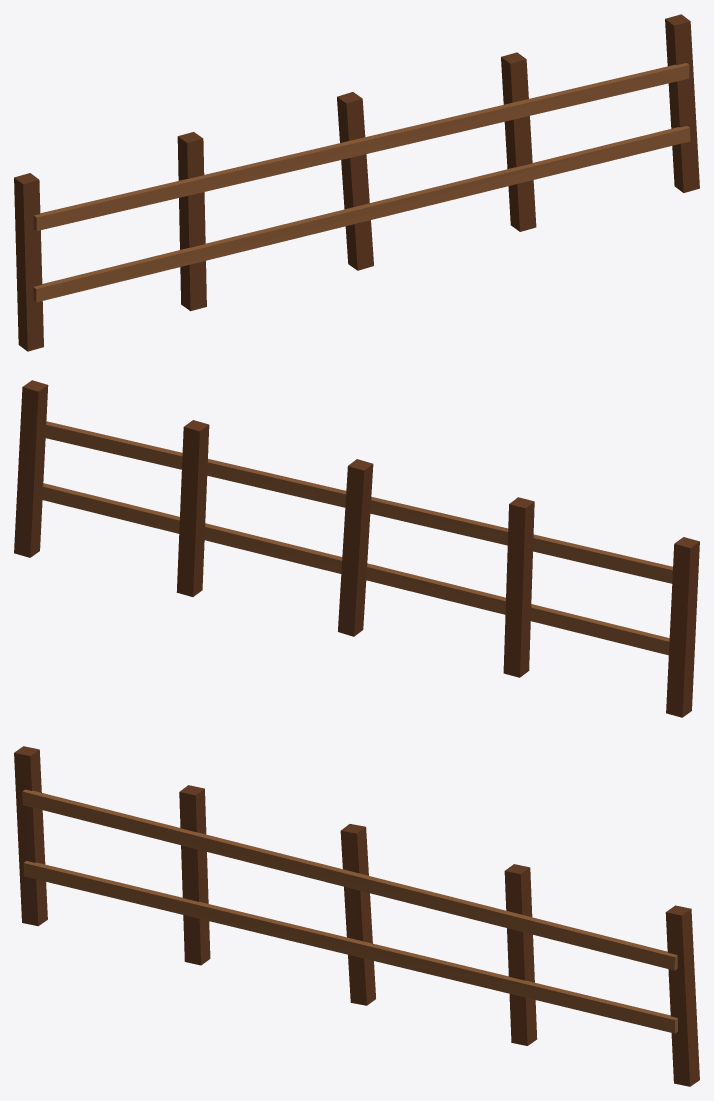
Rendered from fence.glb.
The picture shows the model from 3 angles, top to bottom: view 1: azimuth 30°, elevation 25°; view 2: azimuth 150°, elevation 25°; view 3: azimuth 330°, elevation 25°; orthographic projection.
Visible parts, largest first — view 1: town/fence; view 2: town/fence; view 3: town/fence.
Part boxes in pixels (x1,y1,x2,y2): town/fence: (14, 14, 699, 351); town/fence: (14, 380, 699, 717); town/fence: (14, 746, 699, 1086).
Size of the model in its own units: 4.16 by 1.01 by 0.152.
